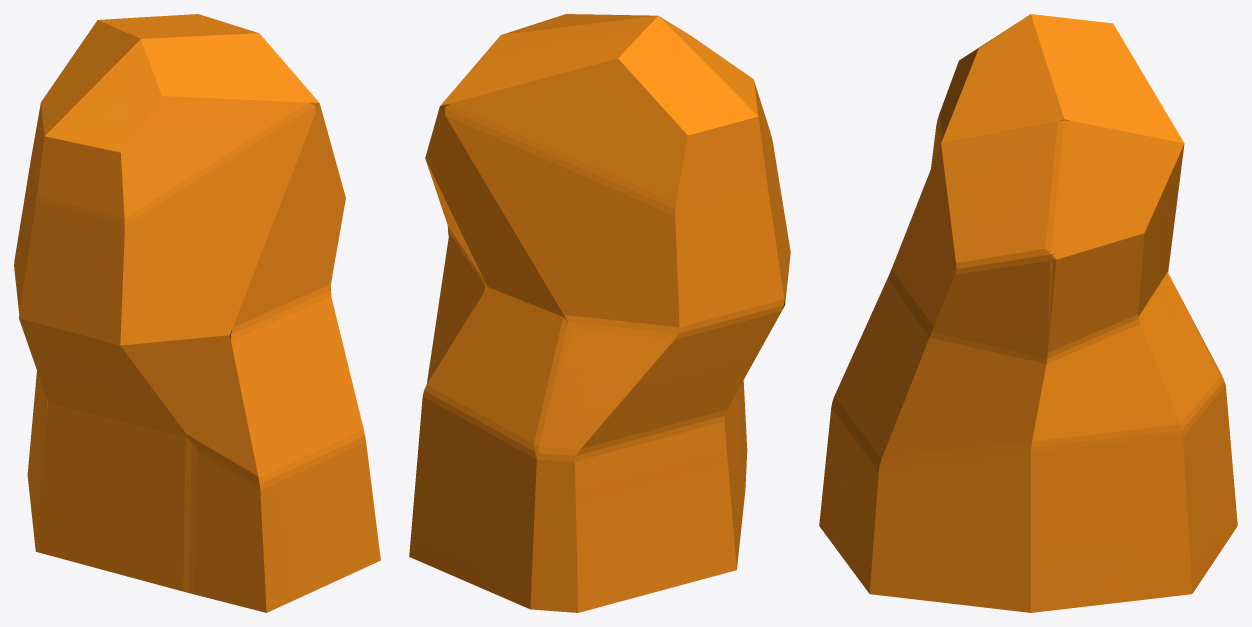
Rendered from Desert_Rock_3.fbx.
3 views of the same model, side by side, from view 1: azimuth 30°, elevation 25°; view 2: azimuth 150°, elevation 25°; view 3: azimuth 270°, elevation 25° (orthographic). The views are drawn at different scales.
Parts seen in each view (by area): view 1: Desert_Rock_3; view 2: Desert_Rock_3; view 3: Desert_Rock_3.
Part boxes in pixels (box(x1,y1,x2,y2)): Desert_Rock_3: box(14, 14, 380, 612); Desert_Rock_3: box(409, 14, 790, 612); Desert_Rock_3: box(819, 14, 1237, 612).
Size of the model in its own units: 1.51 by 2.26 by 1.71.
